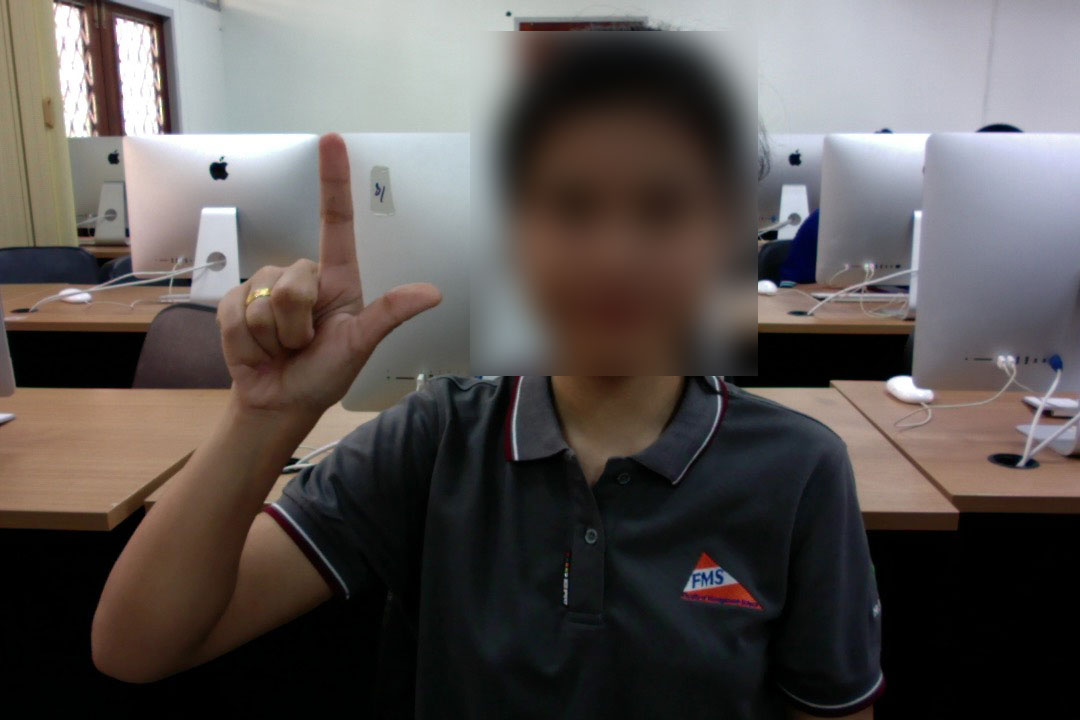lor: (175, 124, 449, 444)
